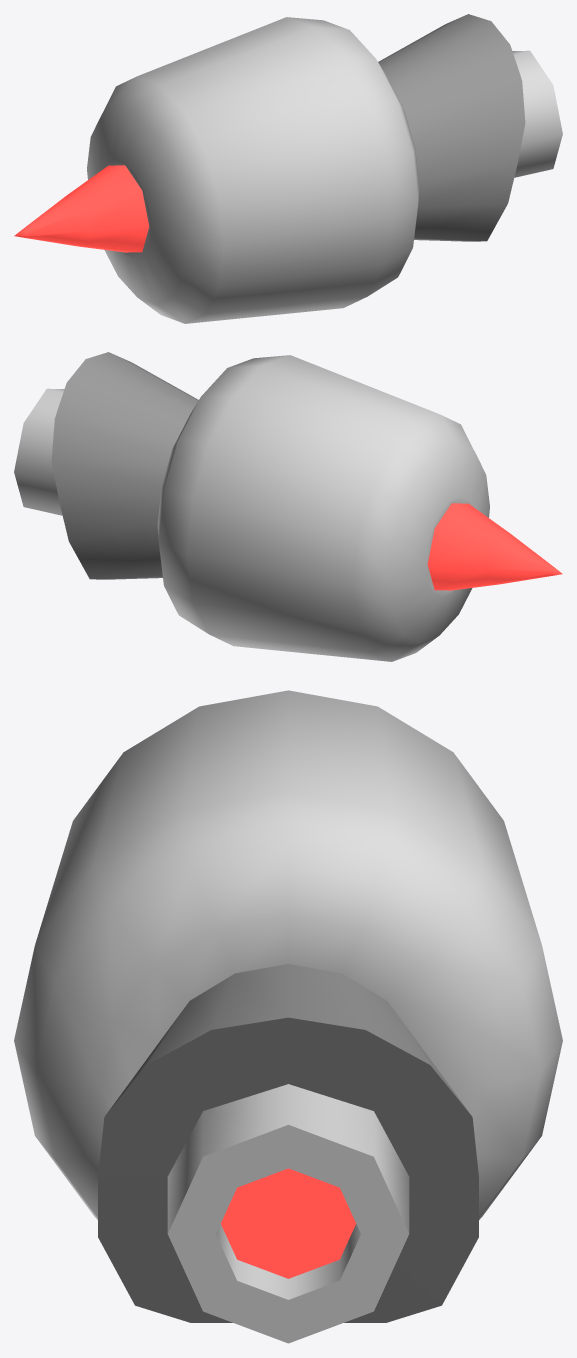
The model's file is SM_Player_Leg.fbx.
The picture shows the model from 3 angles, top to bottom: view 1: azimuth 30°, elevation 25°; view 2: azimuth 150°, elevation 25°; view 3: azimuth 270°, elevation 25°; orthographic projection. The views are drawn at different scales.
Visible parts, largest first — view 1: Leg; view 2: Leg; view 3: Leg.
Boxes of the visible parts, left/top/right/bottom form: Leg: left=14, top=14, right=562, bottom=323; Leg: left=14, top=352, right=562, bottom=661; Leg: left=14, top=690, right=562, bottom=1343.
Size of the model in its own units: 0.7617 by 0.3806 by 0.3806.
